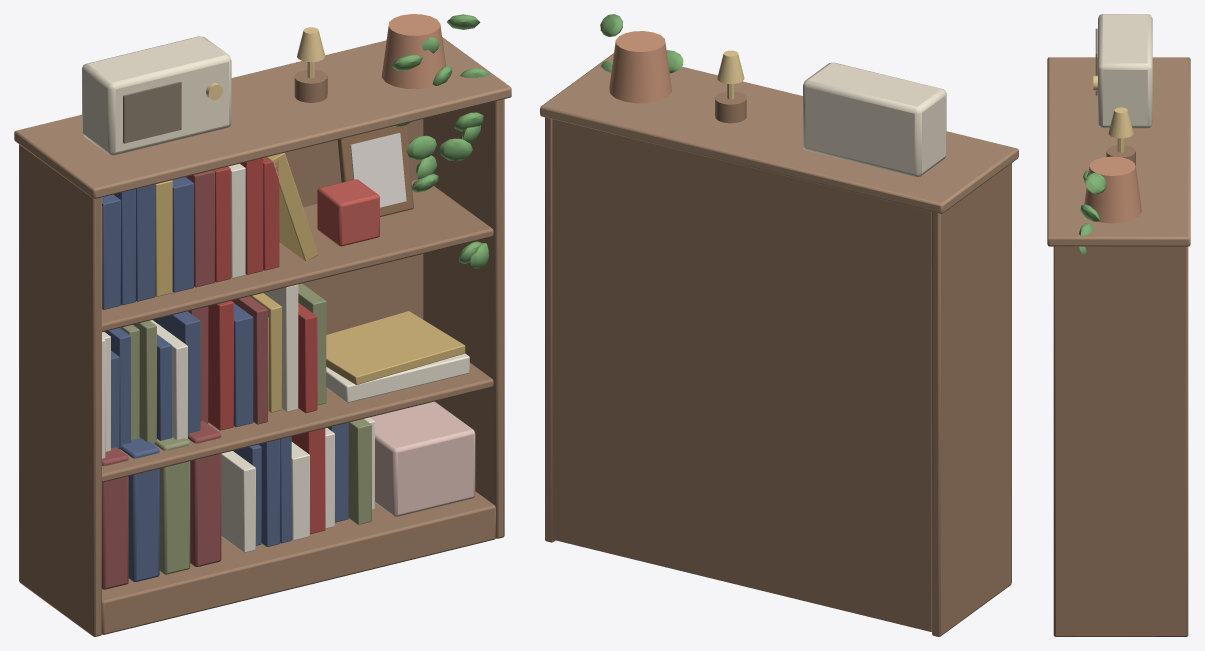
Rendered from dn_bookcase.fbx.
3 views of the same model, side by side, from view 1: azimuth 30°, elevation 25°; view 2: azimuth 150°, elevation 25°; view 3: azimuth 270°, elevation 25° (orthographic). The views are drawn at different scales.
Visible parts, largest first — view 1: Side, Top.005, Plinth.002, Side.001, Shelf.004, Radio.001, PhotoBox, Back.002, Shelf.003, MagStack2, Album.001, Album.003 (+46 smaller); view 2: Back.002, Side, Top.005, Radio.001, PothosPot, Side.001, TrophyBase, TrophyCup; view 3: Side.001, Top.005, Radio.001, PothosPot, TrophyCup, PothosLeaf, TrophyBase, PothosLeaf.003.
Part boxes in pixels (bbox=[...]): Side: bbox=[19, 144, 101, 636]; Top.005: bbox=[14, 37, 511, 198]; Plinth.002: bbox=[102, 491, 495, 634]; Side.001: bbox=[423, 99, 504, 538]; Shelf.004: bbox=[102, 179, 493, 331]; Radio.001: bbox=[82, 36, 231, 155]; PhotoBox: bbox=[370, 401, 475, 516]; Back.002: bbox=[285, 119, 423, 334]; Shelf.003: bbox=[102, 362, 493, 482]; MagStack2: bbox=[326, 311, 465, 384]; Album.001: bbox=[120, 437, 159, 581]; Album.003: bbox=[188, 421, 221, 566]; Back.002: bbox=[552, 119, 931, 631]; Side: bbox=[932, 163, 1011, 636]; Top.005: bbox=[540, 53, 1018, 213]; Radio.001: bbox=[803, 62, 946, 176]; PothosPot: bbox=[609, 31, 671, 103]; Side.001: bbox=[545, 117, 555, 542]; TrophyBase: bbox=[715, 91, 746, 123]; TrophyCup: bbox=[717, 50, 744, 83]; Side.001: bbox=[1053, 246, 1188, 636]; Top.005: bbox=[1047, 57, 1190, 246]; Radio.001: bbox=[1098, 14, 1152, 128]; PothosPot: bbox=[1084, 156, 1141, 223]; TrophyCup: bbox=[1108, 107, 1133, 138]; PothosLeaf: bbox=[1085, 173, 1106, 193]; TrophyBase: bbox=[1106, 145, 1135, 165]; PothosLeaf.003: bbox=[1080, 204, 1099, 221].
Bounding box in the file's own units: 1.02 × 1.22 × 0.34.
